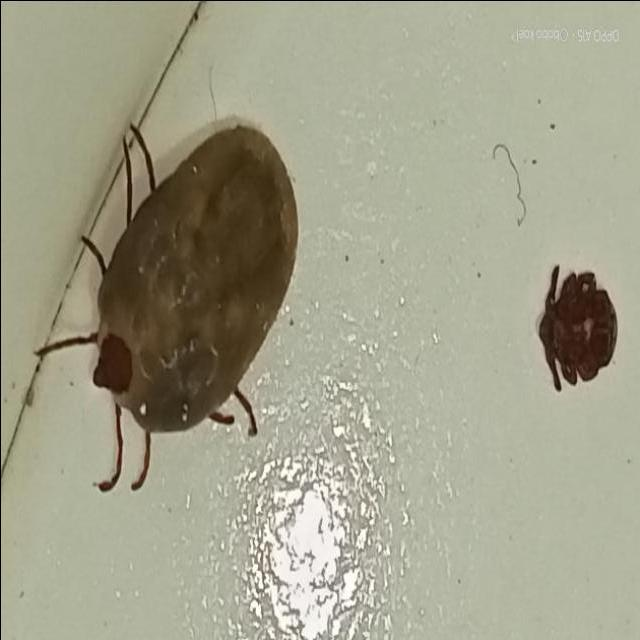Rhipicephalus Sanguineus-F-Fed: (32, 120, 297, 493)
